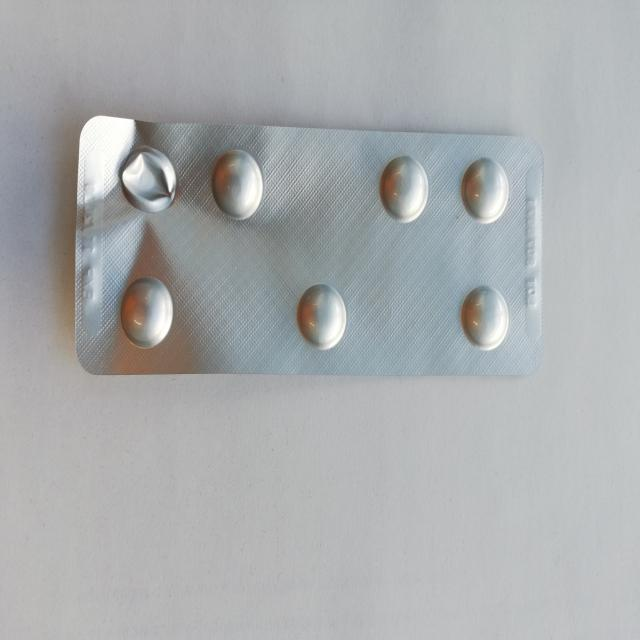Empty: (115, 141, 182, 220)
Pill: (115, 274, 178, 353), (208, 144, 268, 224), (293, 280, 350, 356), (378, 152, 434, 228), (460, 280, 511, 356), (460, 154, 511, 226)
